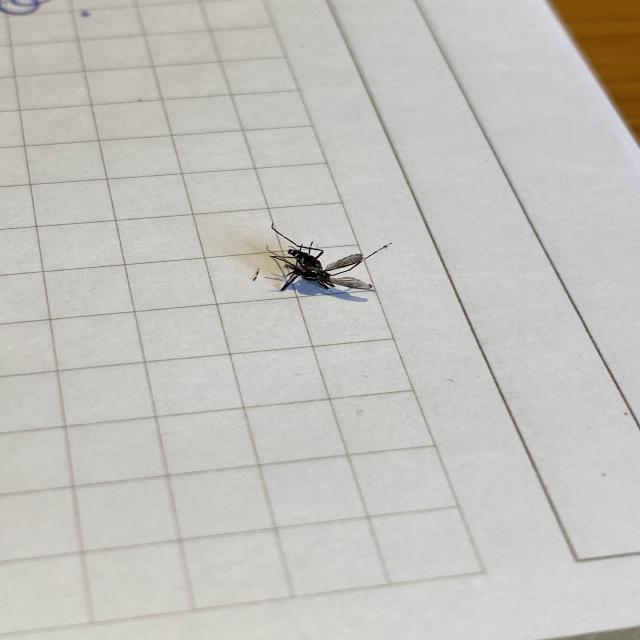albopictus: (242, 215, 390, 301)
